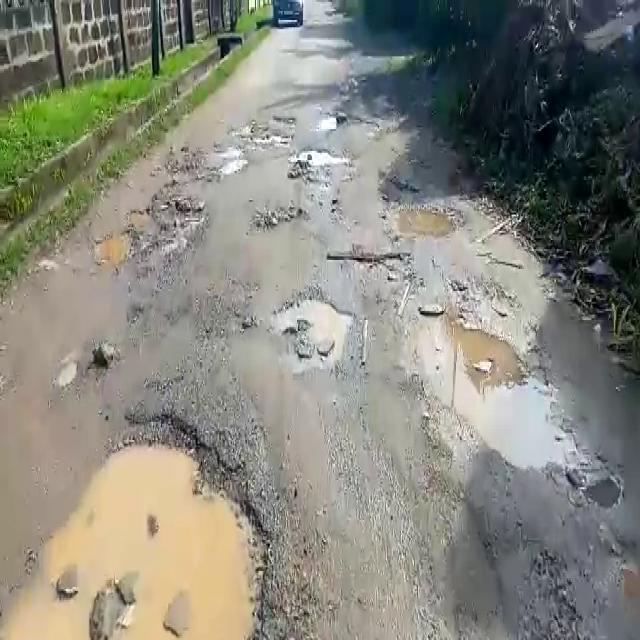Pothole: (37, 409, 281, 640), (405, 308, 572, 479), (100, 193, 209, 264), (275, 286, 352, 362), (387, 195, 466, 239), (331, 246, 414, 275), (255, 203, 308, 231), (287, 150, 334, 180), (221, 156, 250, 179)
